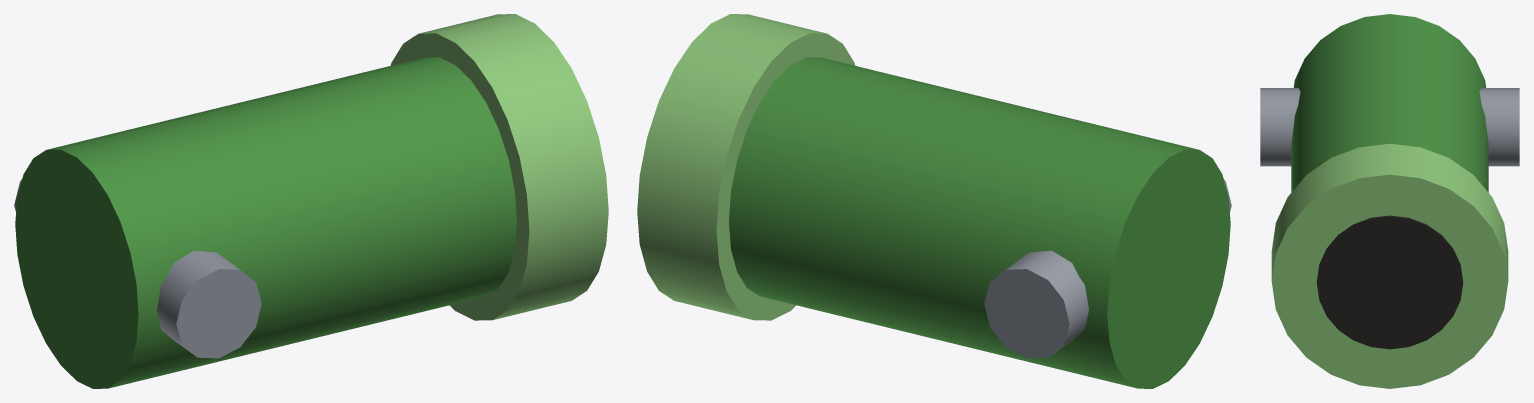
File: dirt_tube_r.glb
The picture shows the model from 3 angles, left to right: view 1: azimuth 30°, elevation 25°; view 2: azimuth 150°, elevation 25°; view 3: azimuth 270°, elevation 25°; orthographic projection. The views are drawn at different scales.
Visible parts, largest first — view 1: tube, rim, trunnion; view 2: tube, rim, trunnion; view 3: rim, tube, bore, trunnion.
Part boxes in pixels (x1,y1,x2,y2): tube: (15, 57, 516, 388); rim: (390, 14, 608, 320); trunnion: (14, 179, 261, 358); tube: (729, 57, 1230, 388); rim: (637, 14, 855, 320); trunnion: (984, 179, 1231, 358); rim: (1271, 143, 1508, 388); tube: (1291, 14, 1488, 192); bore: (1316, 215, 1463, 349); trunnion: (1260, 88, 1519, 166).
Size of the model in its own units: 7.55 by 4.2 by 4.6.
